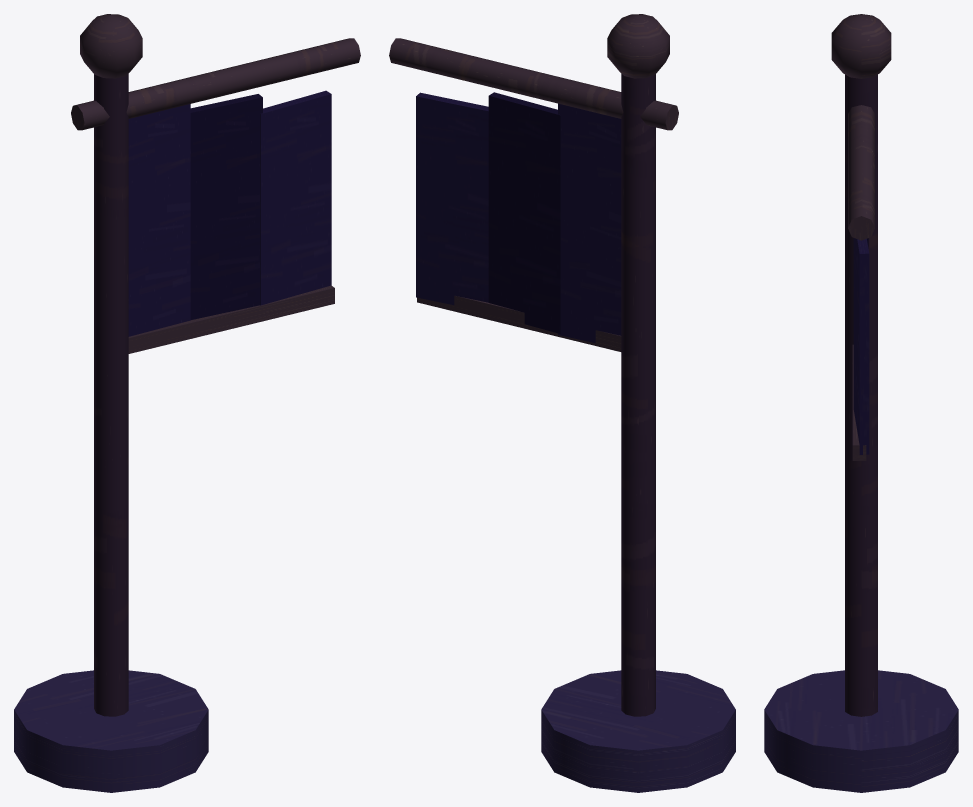
File: banniere-donjon.glb
3 views of the same model, side by side, from view 1: azimuth 30°, elevation 25°; view 2: azimuth 150°, elevation 25°; view 3: azimuth 270°, elevation 25° (orthographic).
Visible parts, largest first — view 1: Mat, Pied, Pan2, Pan3, Pan1, Traverse, Liseré, Pommeau; view 2: Mat, Pied, Pan2, Pan3, Pan1, Traverse, Pommeau, Liseré; view 3: Pied, Mat, Traverse, Pan3, Pommeau, Liseré.
Part boxes in pixels (<box>): Mat: <box>94,74,128,716</box>; Pied: <box>14,670,208,792</box>; Pan2: <box>190,94,262,319</box>; Pan3: <box>260,90,331,305</box>; Pan1: <box>128,104,190,336</box>; Traverse: <box>71,38,360,130</box>; Liseré: <box>128,285,334,353</box>; Pommeau: <box>80,14,142,78</box>; Mat: <box>621,74,655,716</box>; Pied: <box>541,670,735,792</box>; Pan2: <box>488,92,560,333</box>; Pan3: <box>416,92,488,305</box>; Pan1: <box>558,103,621,343</box>; Traverse: <box>389,38,678,130</box>; Pommeau: <box>607,14,669,78</box>; Liseré: <box>417,295,621,351</box>; Pied: <box>764,670,958,792</box>; Mat: <box>845,74,877,716</box>; Traverse: <box>848,105,874,240</box>; Pan3: <box>853,238,869,454</box>; Pommeau: <box>831,14,891,78</box>; Liseré: <box>852,344,866,460</box>.
Size of the model in its own units: 0.97 by 2.08 by 0.5.
5 materials, 5 textured.
